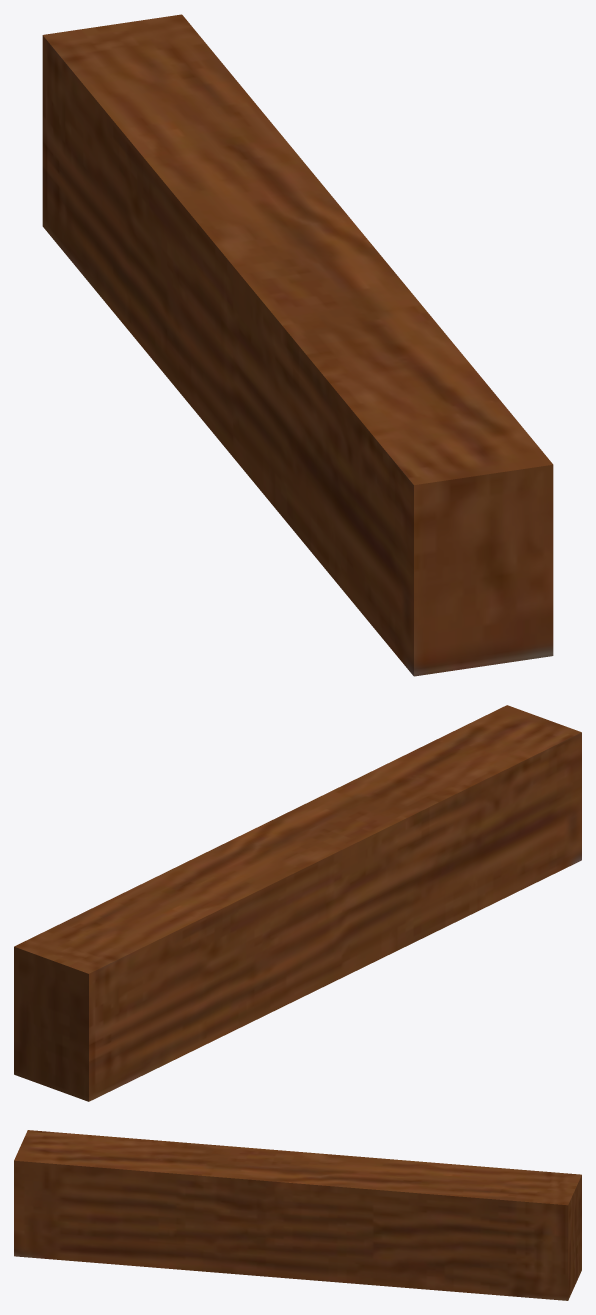
The model's file is support_arm__beam_1.glb.
3 renders of one model, top to bottom at view 1: azimuth 30°, elevation 25°; view 2: azimuth 150°, elevation 25°; view 3: azimuth 270°, elevation 25°, orthographic. The views are drawn at different scales.
Visible parts, largest first — view 1: geometry_0; view 2: geometry_0; view 3: geometry_0.
Part boxes in pixels (x1,y1,x2,y2): geometry_0: (42, 14, 553, 676); geometry_0: (14, 705, 581, 1101); geometry_0: (14, 1130, 581, 1300).
Bounding box in the file's own units: 0.0675 × 0.04 × 0.2152.
1 material, 1 textured.
